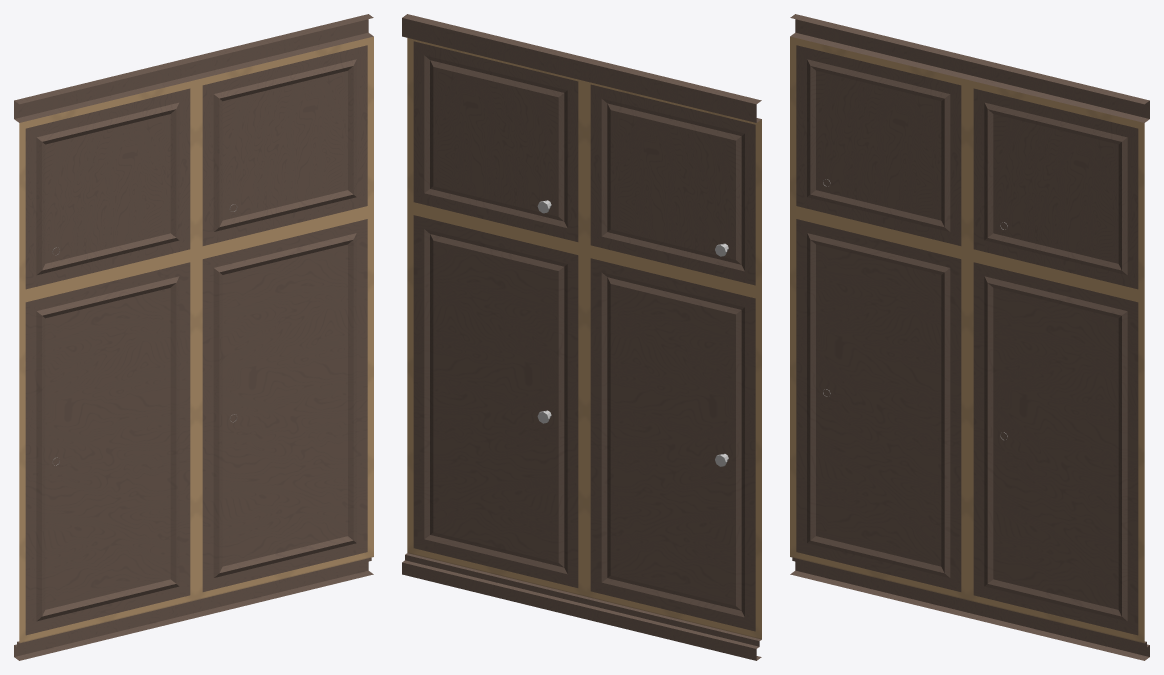
Rendered from Wall Room Integrated Wardrobes Feigned.fbx.
3 renders of one model, left to right at view 1: azimuth 30°, elevation 25°; view 2: azimuth 150°, elevation 25°; view 3: azimuth 330°, elevation 25°, orthographic.
Visible parts, largest first — view 1: Wall Room Integrated Wardrobes Feigned.001; view 2: Wall Room Integrated Wardrobes Feigned.001; view 3: Wall Room Integrated Wardrobes Feigned.001.
Part boxes in pixels (bbox=[...]): Wall Room Integrated Wardrobes Feigned.001: bbox=[14, 14, 373, 660]; Wall Room Integrated Wardrobes Feigned.001: bbox=[402, 14, 761, 660]; Wall Room Integrated Wardrobes Feigned.001: bbox=[790, 14, 1149, 660].
Bounding box in the file's own units: 4 × 6 × 0.1281.
